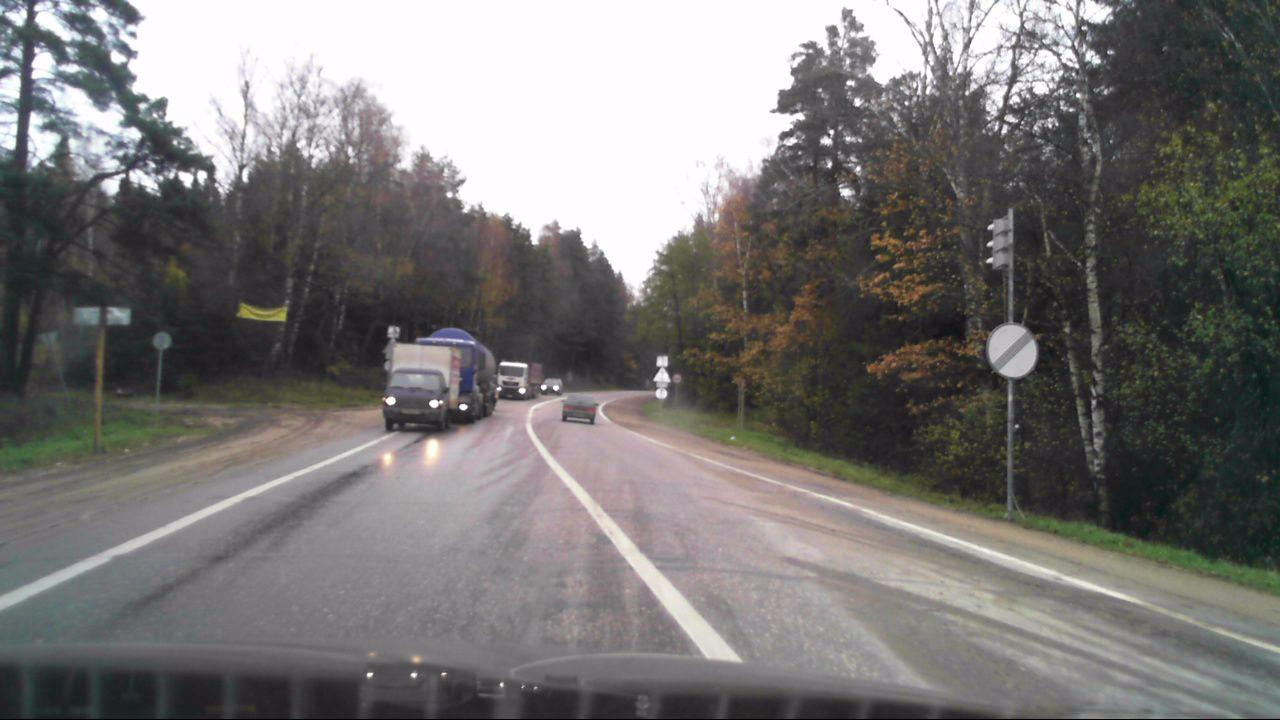3_31: (985, 321, 1038, 380)
